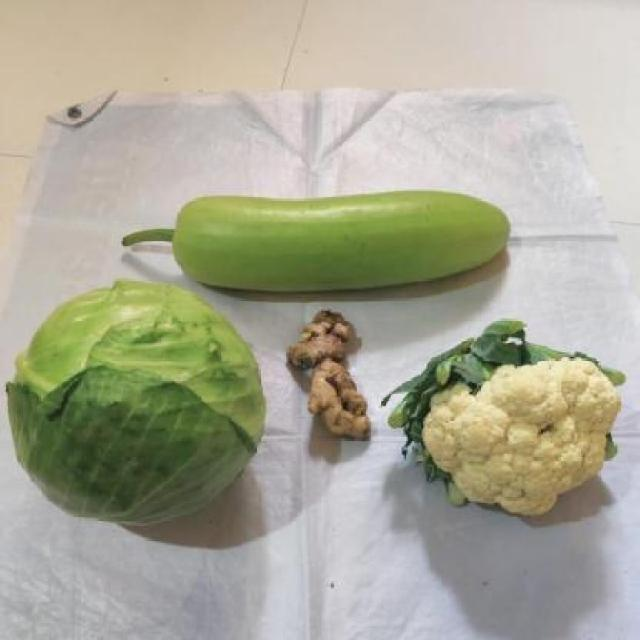Cabbage: (9, 288, 266, 526)
Calabash: (123, 191, 514, 291)
Cauliflower: (392, 320, 620, 517)
Ginger: (288, 310, 372, 438)
